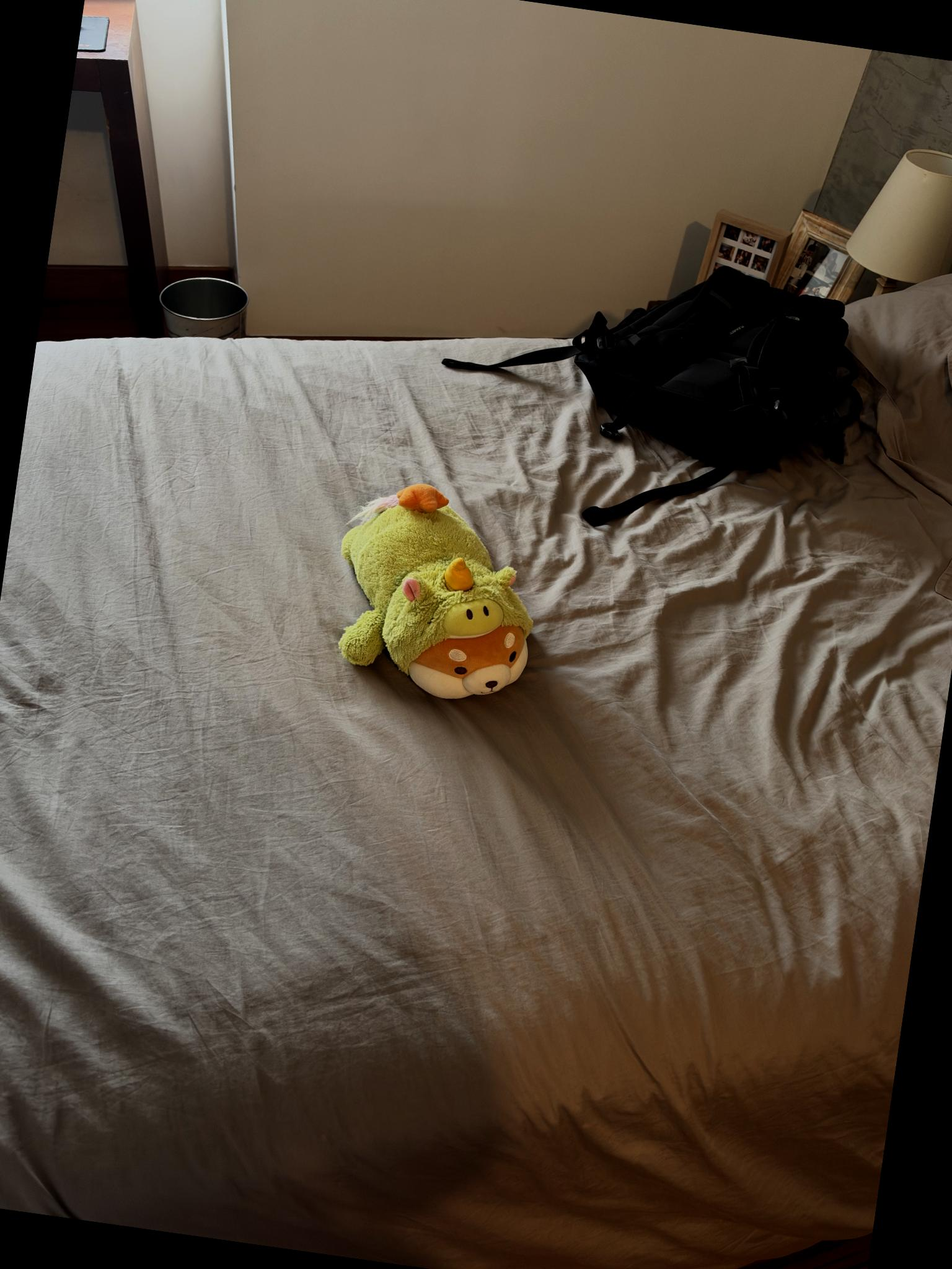peluche_martin: (320, 471, 553, 711)
